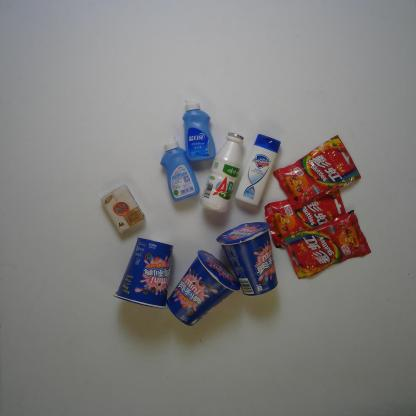Candy: (274, 134, 358, 211), (283, 211, 372, 281), (264, 189, 349, 250)
Dessert: (165, 249, 242, 329), (219, 221, 279, 299), (113, 236, 175, 309)
Milk: (197, 132, 245, 213)
Personal Hygiene: (237, 124, 279, 206), (158, 138, 200, 200), (183, 98, 216, 162)
Tissue: (101, 184, 143, 233)
